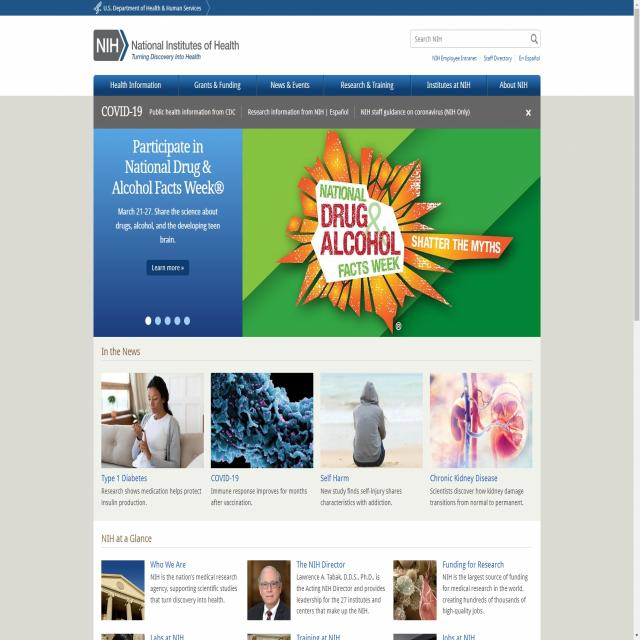menu-bar: (91, 71, 542, 96)
search: (408, 26, 542, 50)
